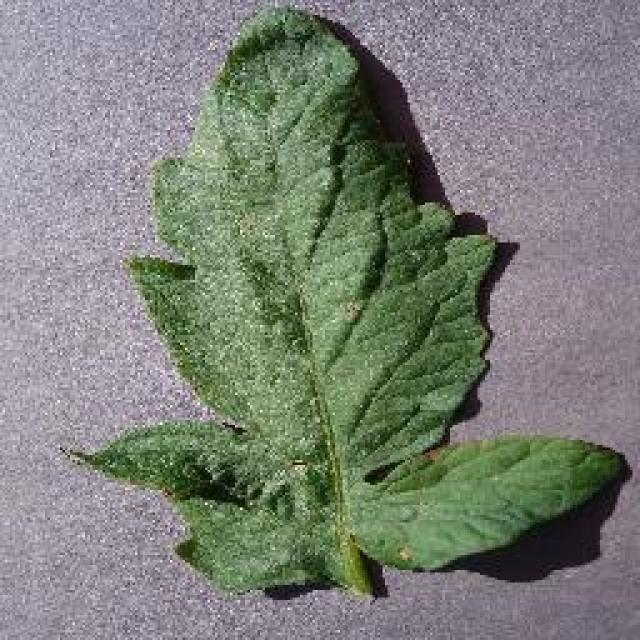Tomato___Target_Spot: (62, 10, 620, 592)
